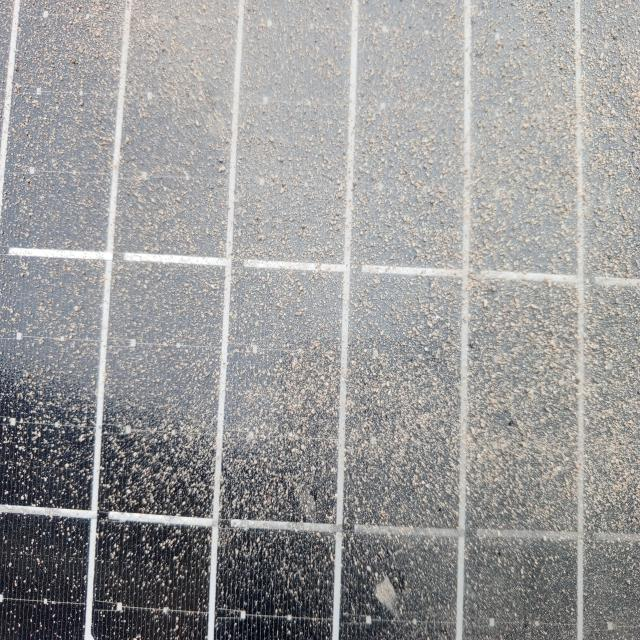Anomaly Solar Panel: (3, 0, 637, 636)
Surface Contaminant: (8, 96, 620, 639)
